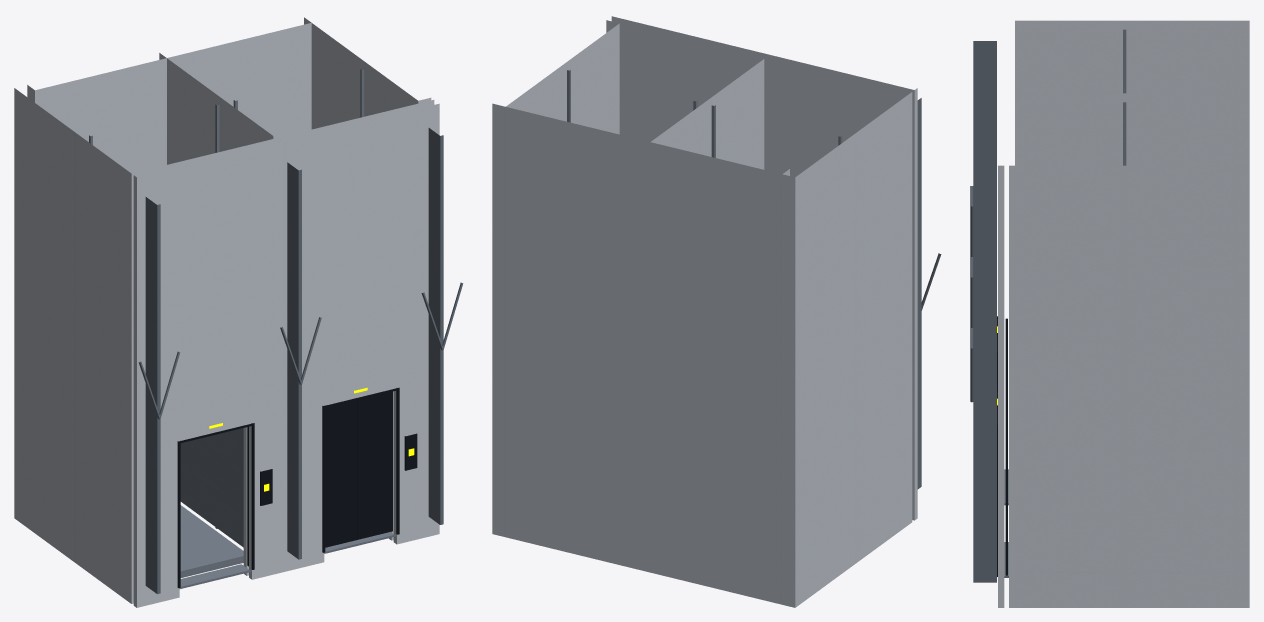
Rendered from v2_lift.glb.
The picture shows the model from 3 angles, left to right: view 1: azimuth 30°, elevation 25°; view 2: azimuth 150°, elevation 25°; view 3: azimuth 270°, elevation 25°; orthographic projection. The views are drawn at different scales.
Visible parts, largest first — view 1: Door_Wall, Shaft_Walls, Branch_Fins, Landing_Doors, Lift_Car, Door_Jambs, Fin_Forks, Sills, Call_Panels; view 2: Shaft_Walls, Door_Wall, Branch_Fins; view 3: Shaft_Walls, Branch_Fins, Door_Wall, Fin_Forks, Landing_Doors, Guide_Rails.
Part boxes in pixels (bbox=[...]): Door_Wall: bbox=[128, 100, 439, 607]; Shaft_Walls: bbox=[14, 17, 431, 601]; Branch_Fins: bbox=[145, 128, 443, 593]; Landing_Doors: bbox=[247, 391, 392, 566]; Lift_Car: bbox=[180, 428, 243, 577]; Door_Jambs: bbox=[177, 387, 399, 587]; Fin_Forks: bbox=[138, 282, 463, 419]; Sills: bbox=[179, 532, 396, 588]; Call_Panels: bbox=[260, 433, 417, 505]; Shaft_Walls: bbox=[492, 23, 909, 607]; Door_Wall: bbox=[606, 16, 917, 523]; Branch_Fins: bbox=[917, 98, 921, 489]; Shaft_Walls: bbox=[1015, 20, 1249, 607]; Branch_Fins: bbox=[973, 41, 996, 582]; Door_Wall: bbox=[998, 165, 1015, 607]; Fin_Forks: bbox=[970, 186, 973, 402]; Landing_Doors: bbox=[1005, 318, 1007, 575]; Guide_Rails: bbox=[1123, 29, 1126, 165].
Size of the model in its own units: 4.94 by 6.25 by 3.58.
Materials: 5 (4 with a texture image).
